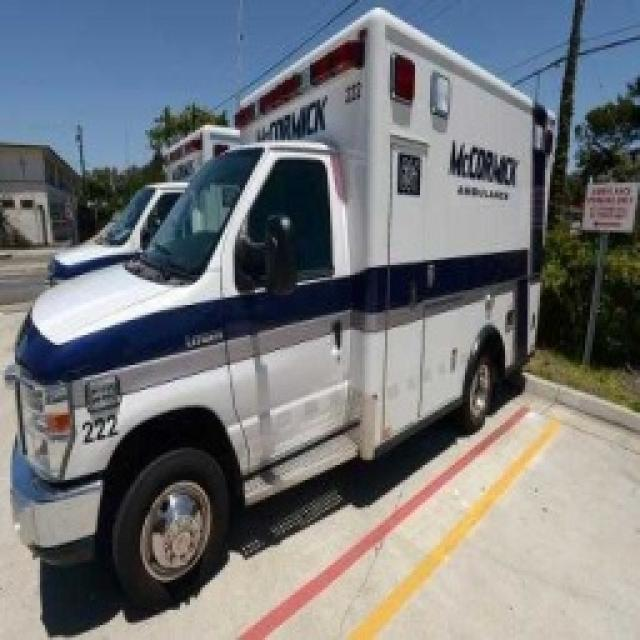emergency-vehicle: (3, 4, 565, 566)
